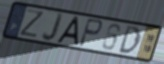6: (101, 23, 122, 52)
A: (55, 15, 80, 47)
D: (118, 24, 142, 55)
J: (41, 12, 65, 43)
P: (77, 17, 104, 49)
Z: (18, 8, 46, 40)
